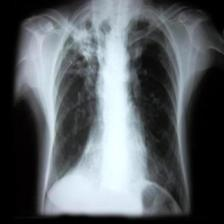tuberculosis: (39, 4, 191, 212)
